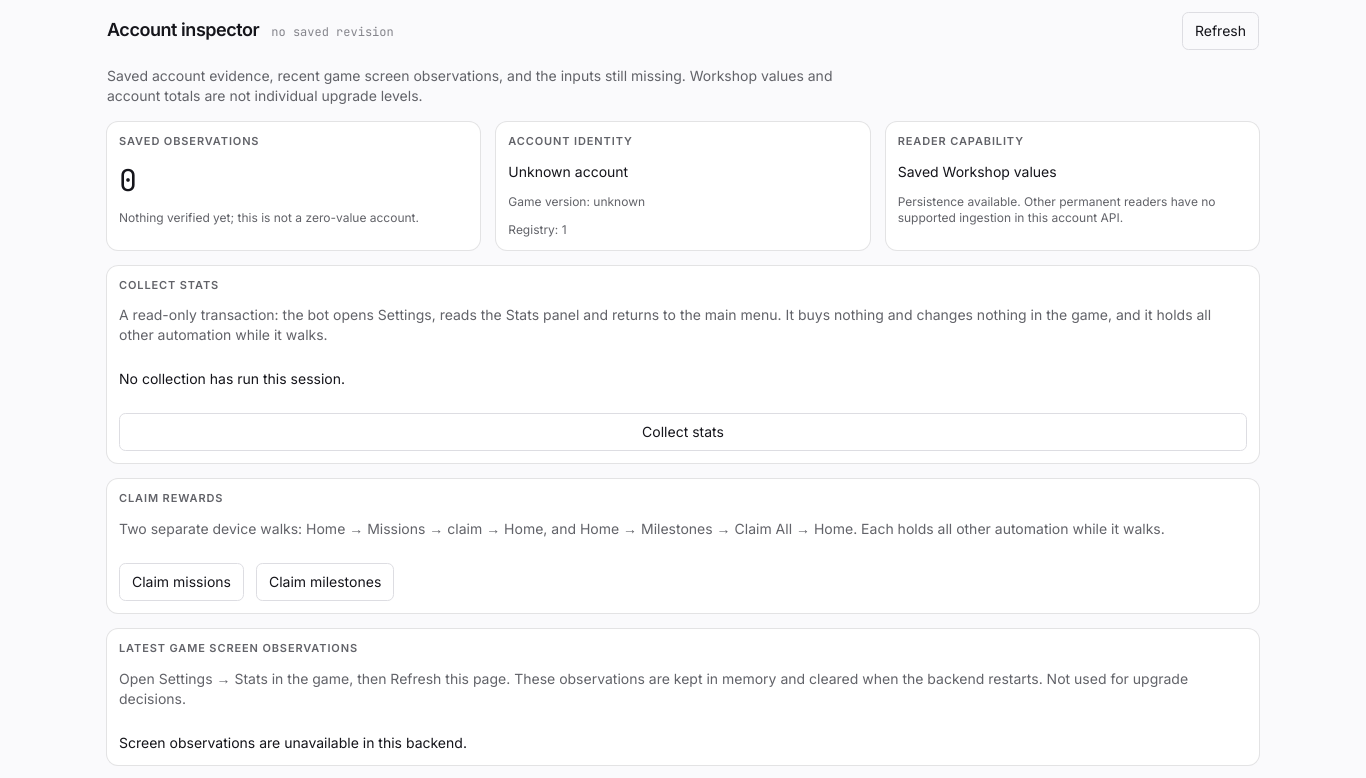
Test case: Account inspector › surfaces a refusal without claiming the game was touched
The image size is (1366, 778).
Expected: the text "No collection has run this session." is shown, [119, 370, 345, 387]
What coordinates should you click on to do the following:
click the button "Collect stats"
I would click on:
 (683, 432)
Its box is [119, 413, 1247, 451].
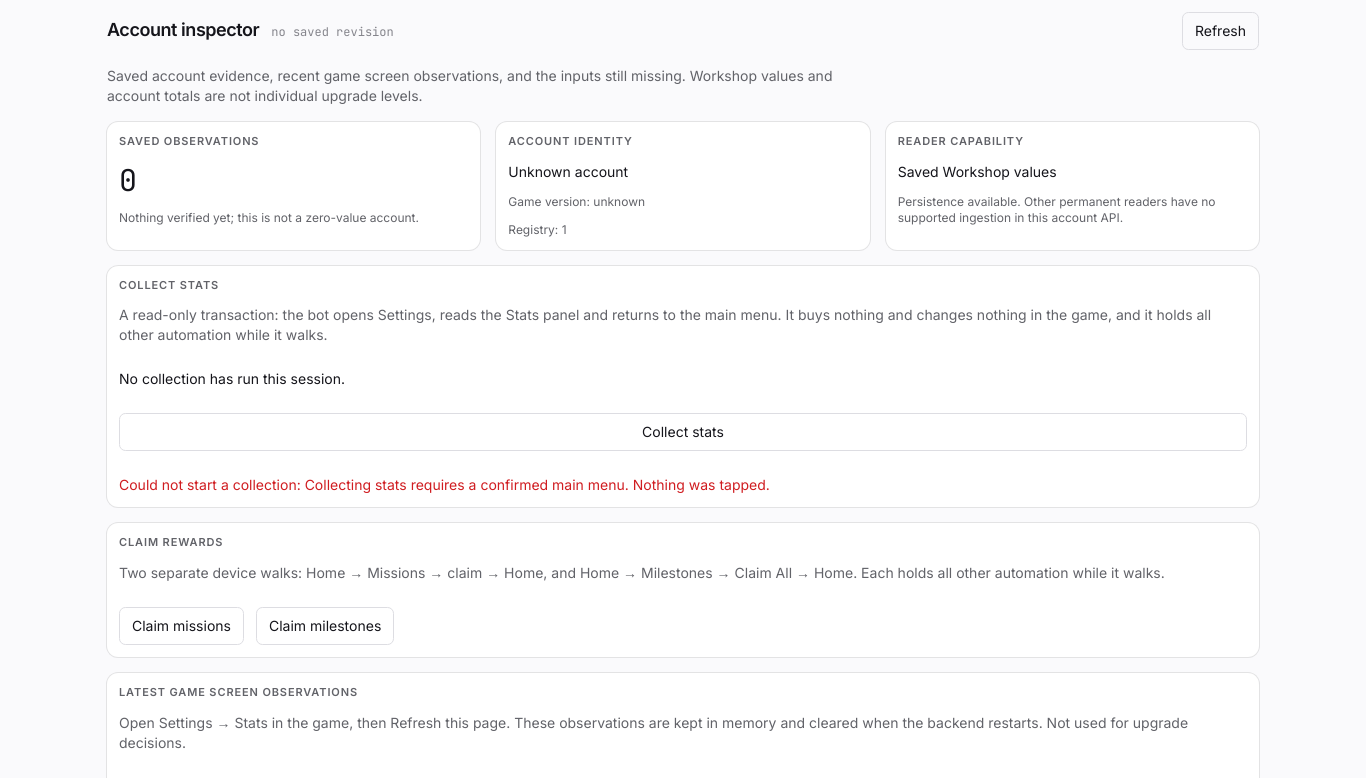
Expected: the text "Could not start a collection: Collecting stats requires a confirmed main menu. Nothing was tapped." is shown, [119, 476, 770, 493]
